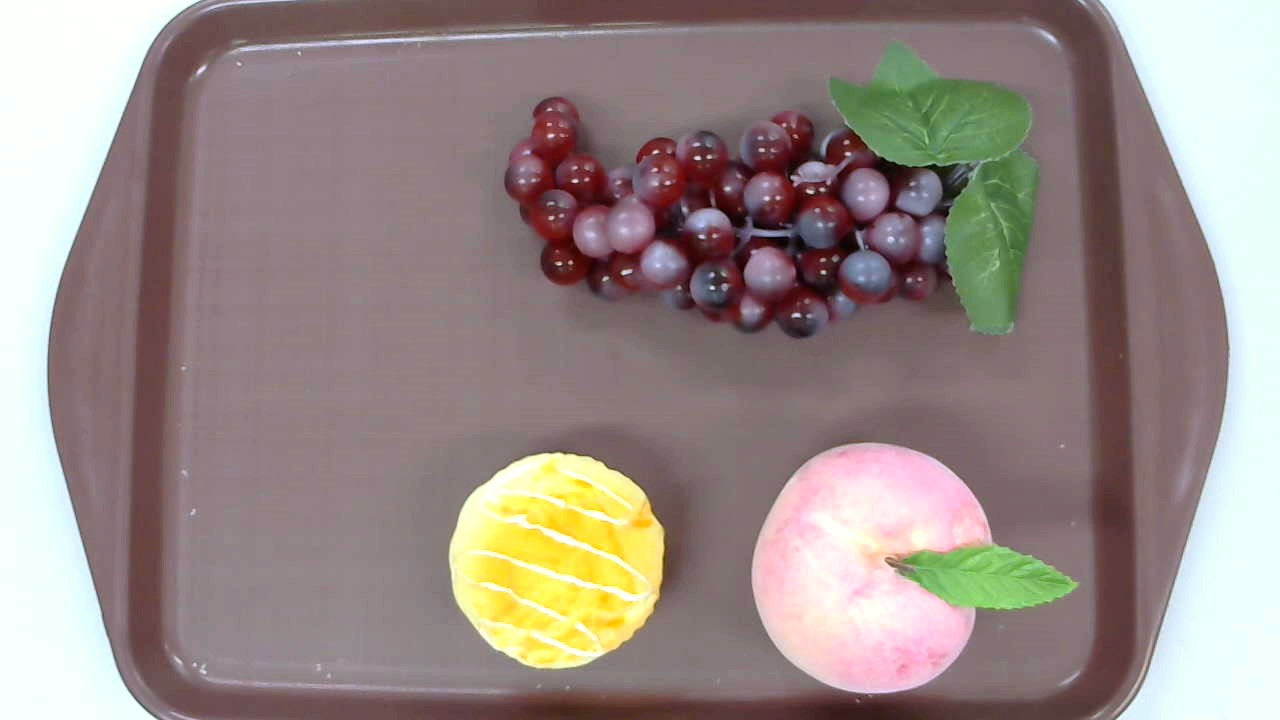cupcake: (449, 451, 665, 669)
grape: (504, 36, 1041, 341)
peach: (751, 442, 1081, 694)
